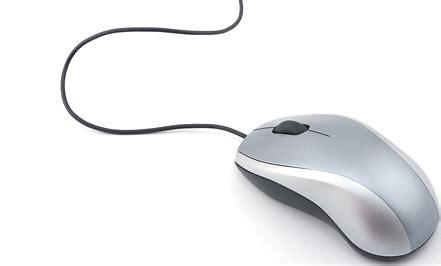computer mouse: (235, 113, 441, 262)
